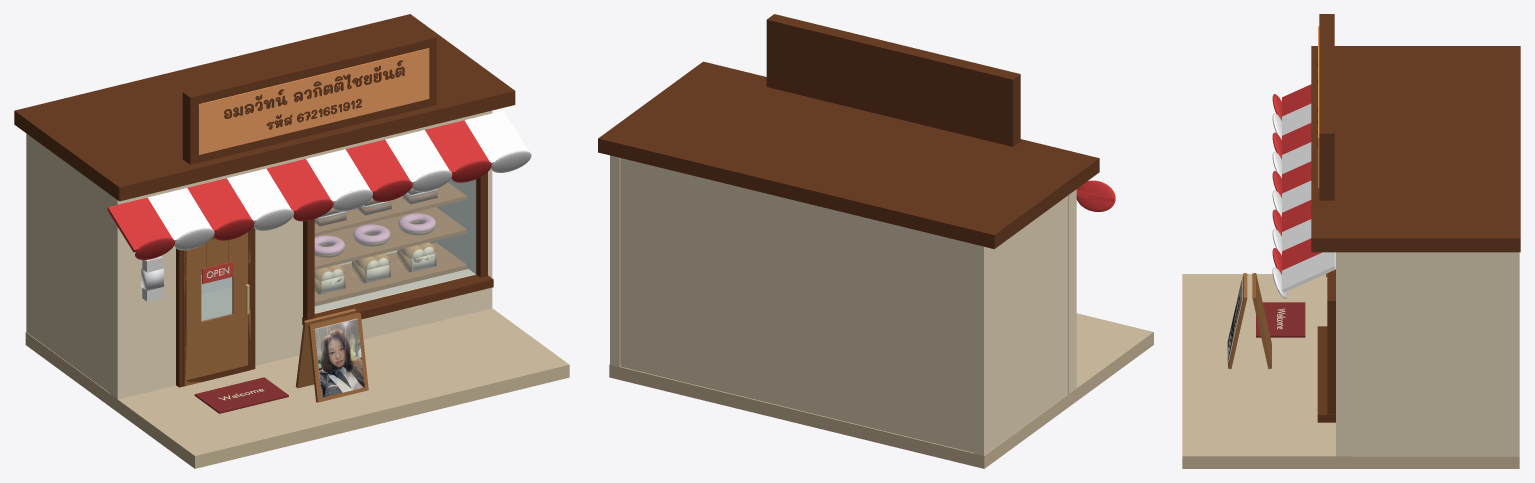
The model's file is bakeryshop.glb.
3 renders of one model, left to right at view 1: azimuth 30°, elevation 25°; view 2: azimuth 150°, elevation 25°; view 3: azimuth 270°, elevation 25°, orthographic.
Visible parts, largest first — view 1: Floor, Roof, Wall_SideL, Window_Glass, Sign_Face, Wall_L, Sign_Frame, Door_Leaf, Wall_Mid, Wall_WinBot, Board_Photo, Shelf_1 (+39 smaller); view 2: Wall_Back, Roof, Sign_Frame, Wall_SideL, Floor, Wall_SideR, Wall_L, Awning_Scallop0; view 3: Roof, Wall_SideR, Floor, Wall_R, Sign_Frame, DoorMat, Awning_Stripe9, WinFrame_Sill, WinFrame_R, Board_Back, Awning_Stripe8, Awning_Stripe0 (+8 smaller).
Part boxes in pixels (x1=…): Floor: x1=25, y1=250, x2=569, y2=468; Roof: x1=14, y1=14, x2=515, y2=201; Wall_SideL: x1=26, y1=133, x2=109, y2=392; Window_Glass: x1=315, y1=178, x2=475, y2=312; Sign_Face: x1=198, y1=48, x2=429, y2=154; Wall_L: x1=110, y1=186, x2=180, y2=399; Sign_Frame: x1=182, y1=32, x2=436, y2=164; Door_Leaf: x1=183, y1=232, x2=250, y2=386; Wall_Mid: x1=247, y1=155, x2=310, y2=365; Wall_WinBot: x1=314, y1=269, x2=476, y2=339; Board_Photo: x1=315, y1=319, x2=364, y2=397; Shelf_1: x1=314, y1=207, x2=466, y2=269; Wall_Back: x1=620, y1=158, x2=974, y2=452; Roof: x1=598, y1=61, x2=1099, y2=248; Sign_Frame: x1=766, y1=14, x2=1020, y2=146; Wall_SideL: x1=974, y1=195, x2=1068, y2=455; Floor: x1=609, y1=313, x2=1153, y2=468; Wall_SideR: x1=610, y1=155, x2=620, y2=366; Wall_L: x1=1068, y1=189, x2=1076, y2=394; Awning_Scallop0: x1=1076, y1=180, x2=1115, y2=211; Roof: x1=1311, y1=46, x2=1520, y2=252; Wall_SideR: x1=1351, y1=252, x2=1519, y2=455; Floor: x1=1182, y1=274, x2=1519, y2=468; Wall_R: x1=1336, y1=252, x2=1351, y2=456; Sign_Frame: x1=1319, y1=14, x2=1334, y2=200; DoorMat: x1=1256, y1=302, x2=1305, y2=337; Awning_Stripe9: x1=1282, y1=252, x2=1335, y2=292; WinFrame_Sill: x1=1317, y1=326, x2=1335, y2=422; WinFrame_R: x1=1327, y1=309, x2=1335, y2=414; Board_Back: x1=1252, y1=273, x2=1271, y2=369; Awning_Stripe8: x1=1282, y1=238, x2=1321, y2=270; Awning_Stripe0: x1=1282, y1=84, x2=1311, y2=116.
Size of the model in its own units: 7.4 by 5.45 by 5.5.
Materials: 29 (1 with a texture image).
